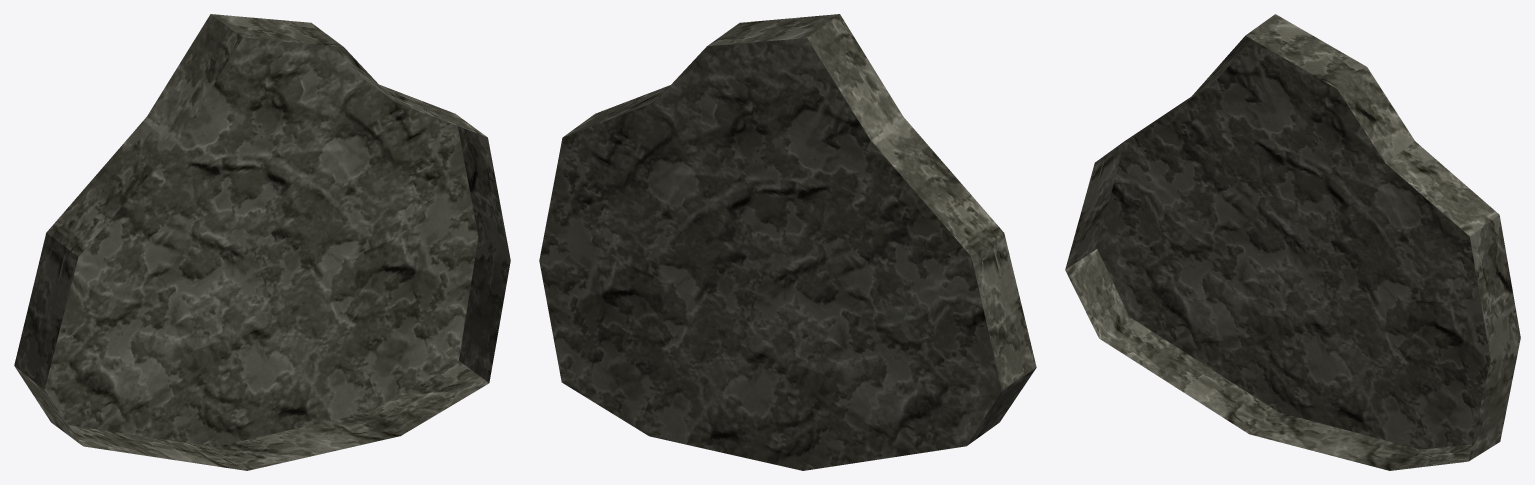
The model's file is TI_Plaster_02.fbx.
3 views of the same model, side by side, from view 1: azimuth 30°, elevation 25°; view 2: azimuth 150°, elevation 25°; view 3: azimuth 330°, elevation 25° (orthographic). The views are drawn at different scales.
Visible parts, largest first — view 1: TI_Plaster_02; view 2: TI_Plaster_02; view 3: TI_Plaster_02.
Part boxes in pixels (x1=…): TI_Plaster_02: x1=14, y1=14, x2=510, y2=470; TI_Plaster_02: x1=539, y1=14, x2=1036, y2=470; TI_Plaster_02: x1=1065, y1=14, x2=1520, y2=470.
Size of the model in its own units: 0.8734 by 0.7834 by 0.1129.
